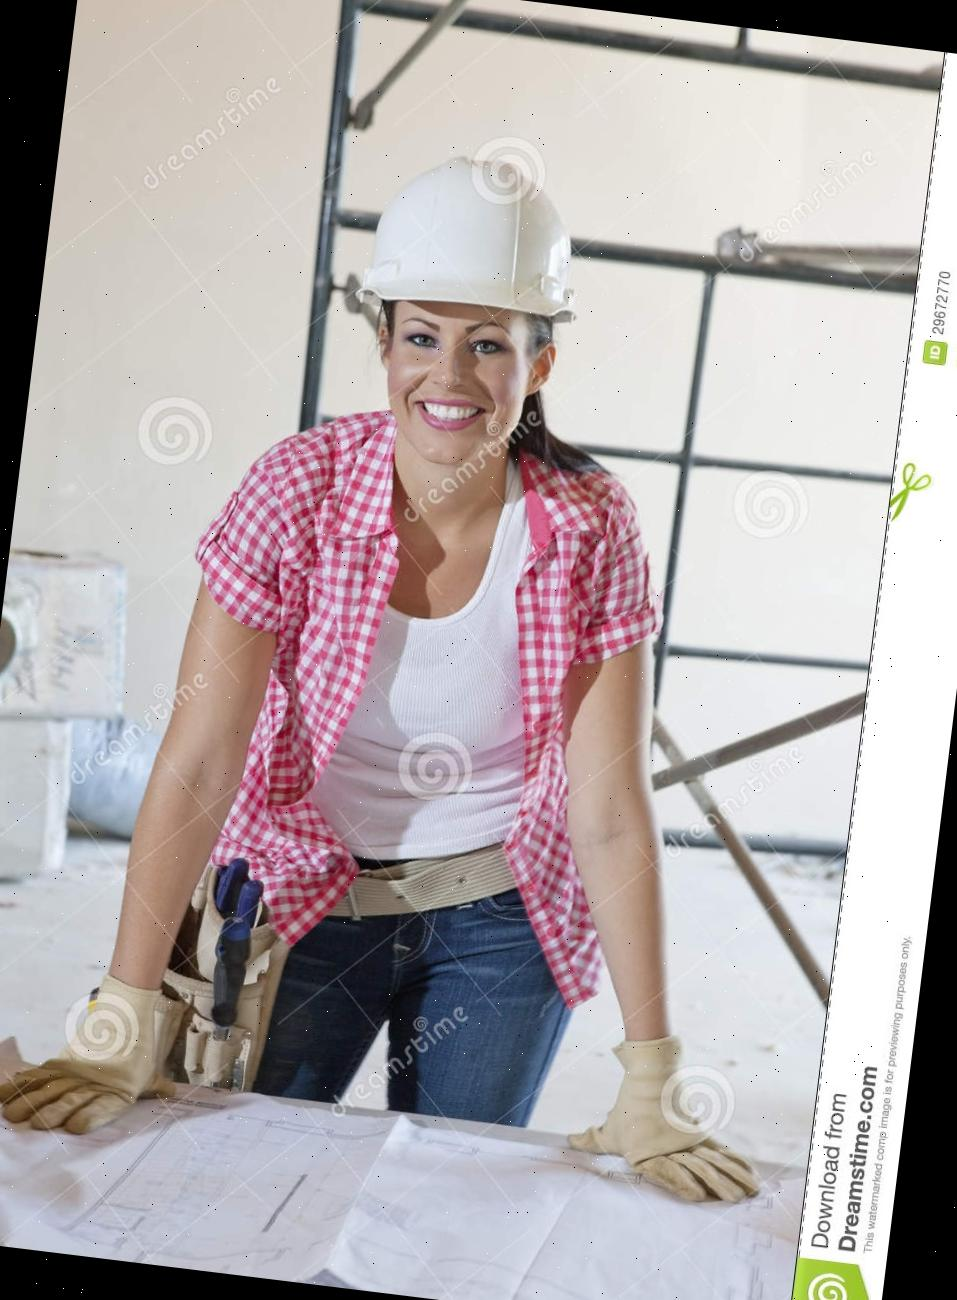helmet: (358, 130, 599, 338)
no_wear: (212, 441, 638, 910)
